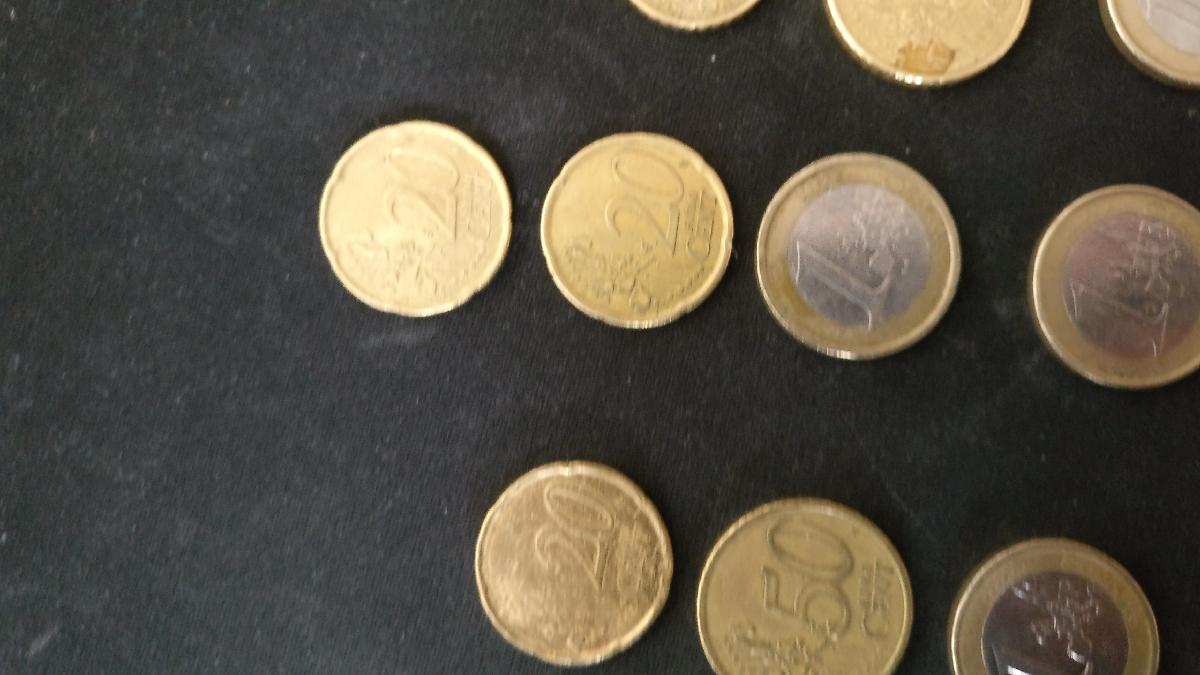Fifty Cent: (699, 494, 917, 675), (817, 1, 1039, 89)
One Euro: (761, 157, 963, 363), (1022, 184, 1200, 391), (946, 532, 1160, 675), (1095, 4, 1200, 86)
Ten Cent: (628, 1, 774, 36)
Twenty Cent: (474, 459, 670, 659), (317, 118, 513, 316), (541, 132, 736, 331)
